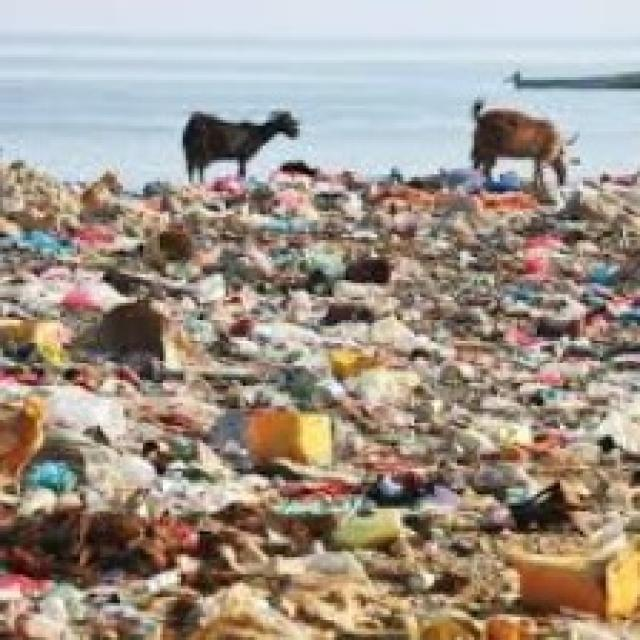heap: (9, 170, 633, 640), (241, 311, 436, 396)
plastic_bag: (44, 381, 132, 441)
